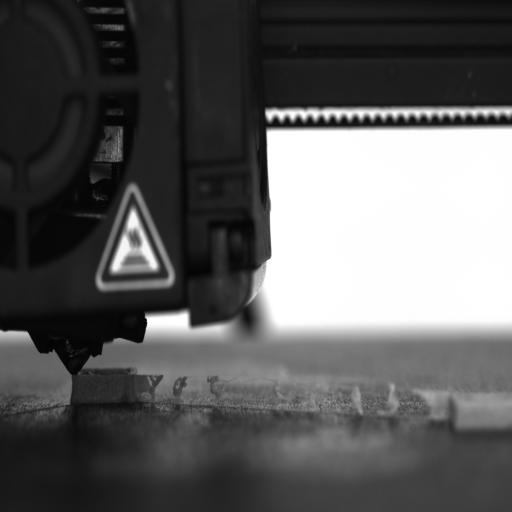spaghetti_and_stringing: (206, 373, 240, 401)
